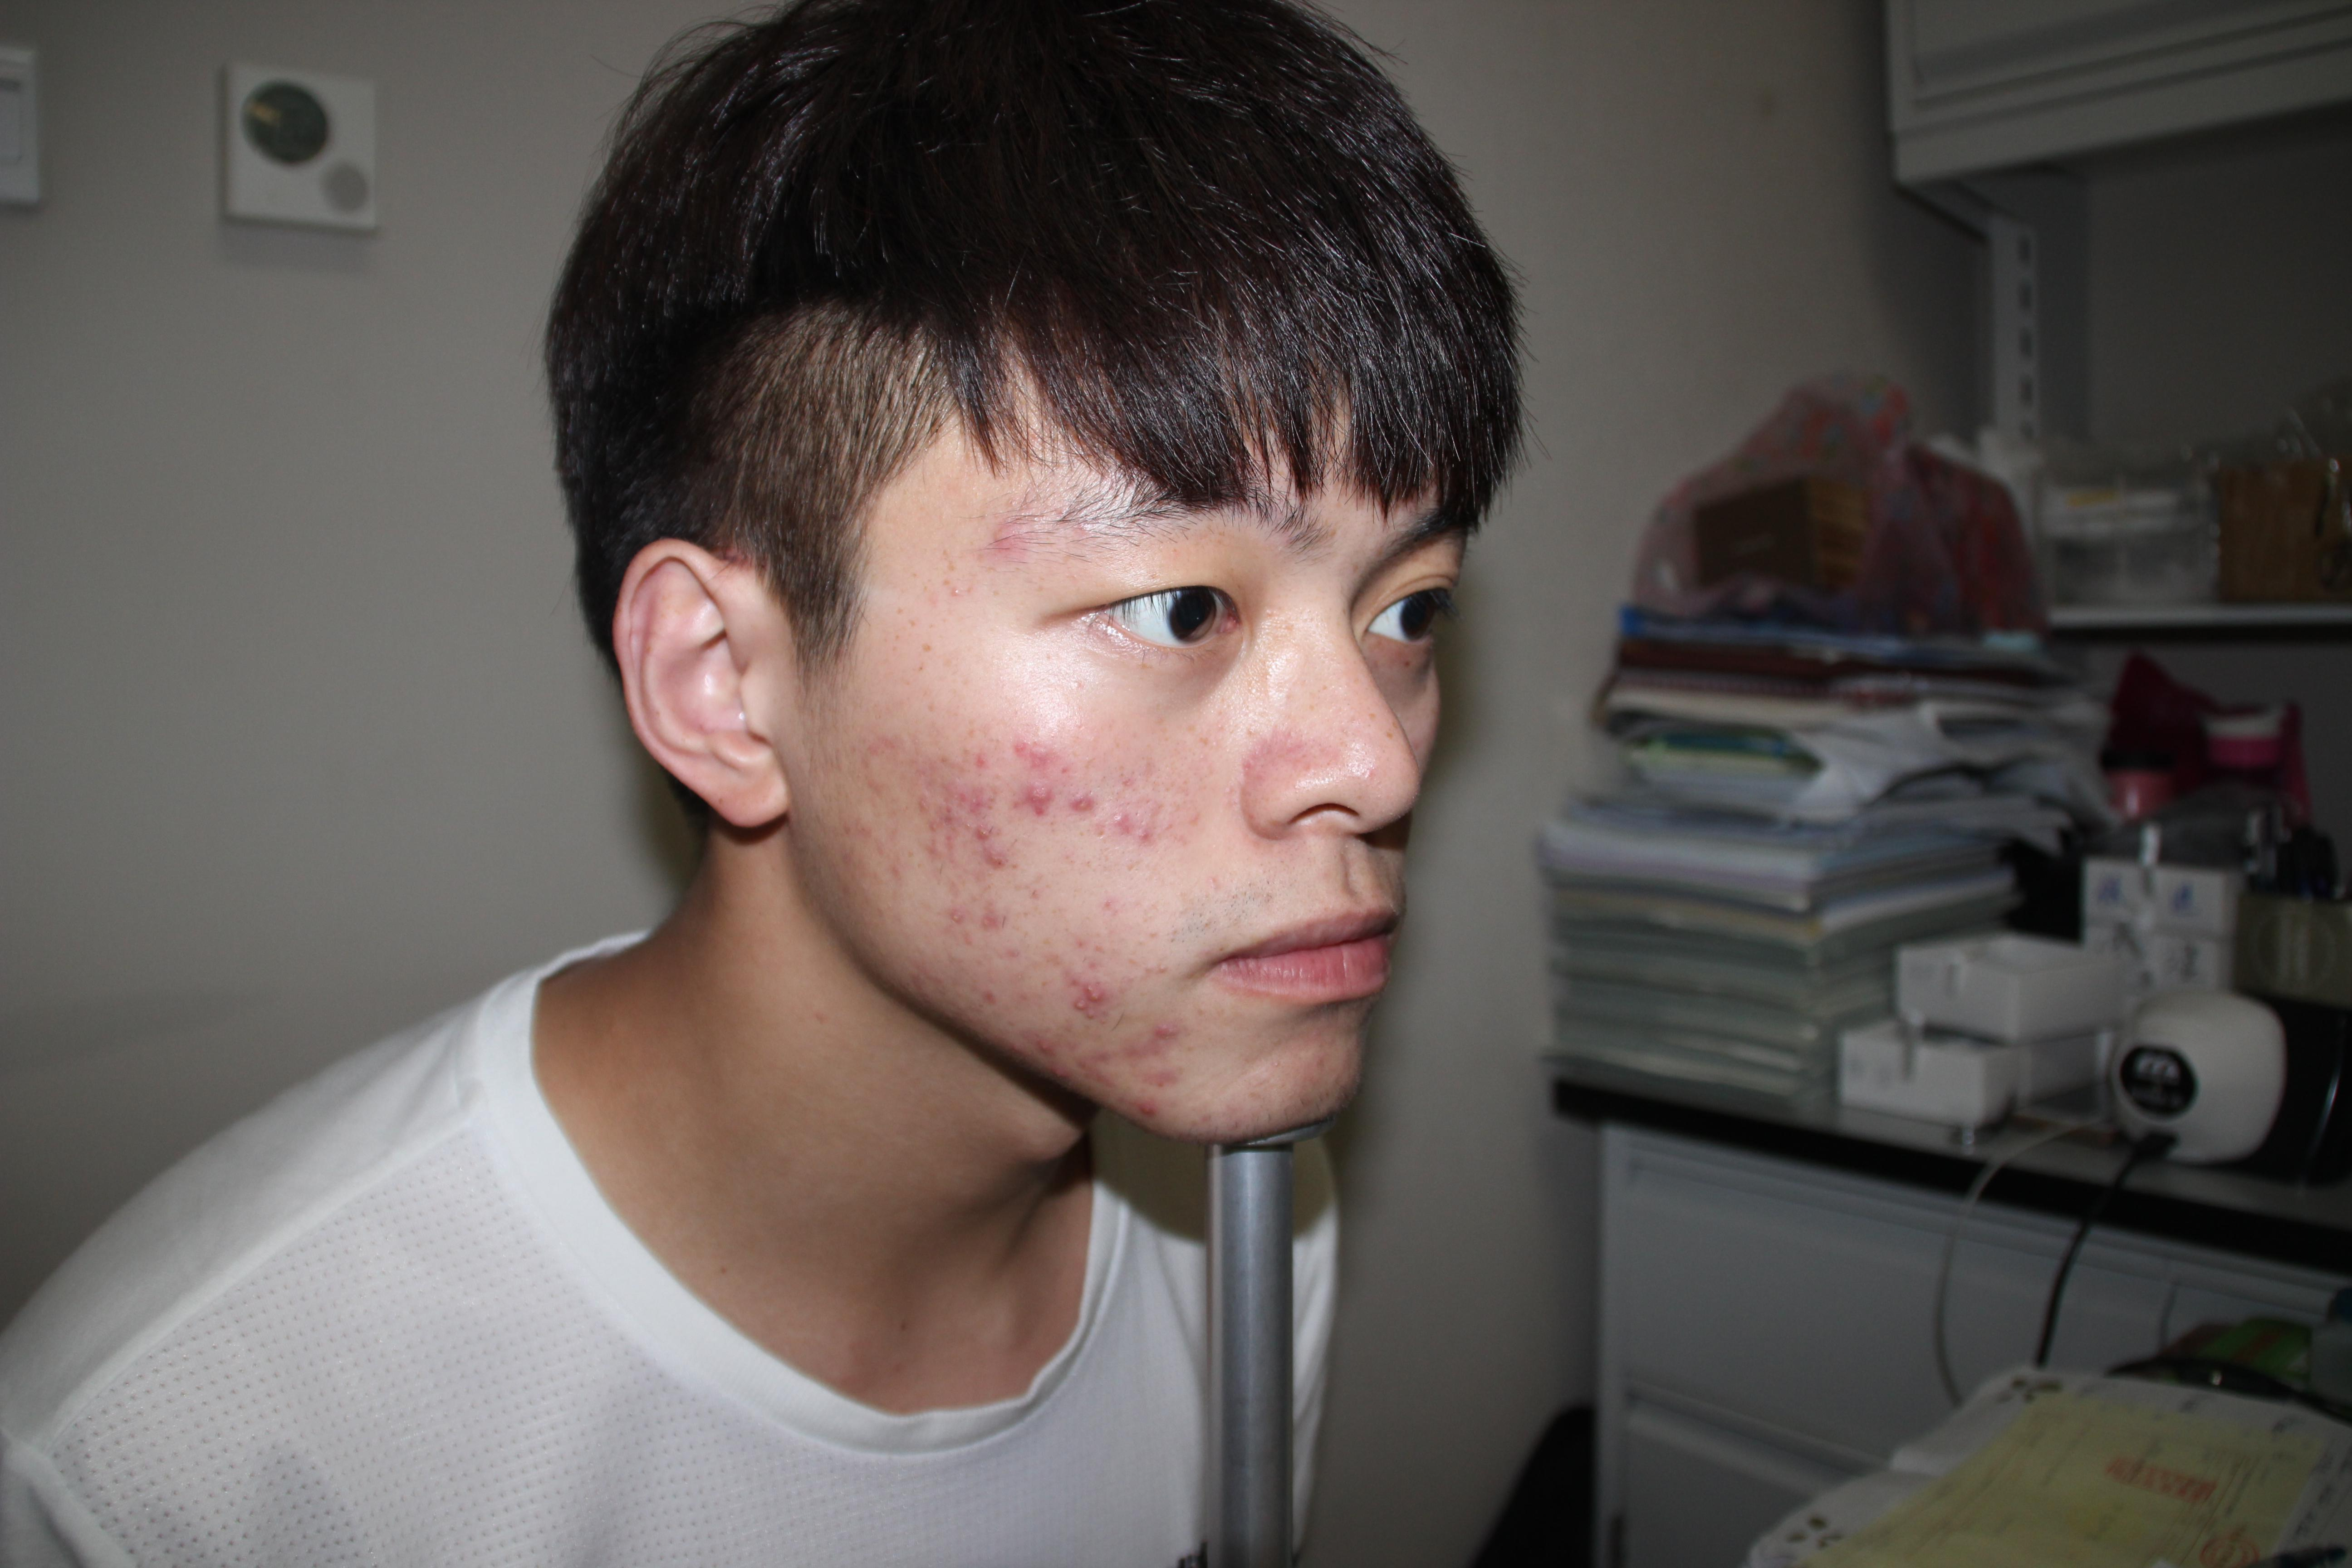fore: (985, 499, 1073, 577), (898, 768, 957, 821), (1109, 1040, 1169, 1092), (1010, 777, 1071, 826), (1006, 709, 1069, 756), (1097, 789, 1141, 856), (1138, 1012, 1200, 1052), (1138, 796, 1178, 856), (1073, 971, 1125, 1015), (950, 749, 997, 793), (982, 821, 1025, 865), (1038, 1053, 1081, 1097), (978, 884, 1025, 924), (1041, 945, 1094, 980), (910, 821, 950, 861), (1138, 1095, 1178, 1136), (1029, 1024, 1069, 1062), (954, 786, 997, 821), (973, 805, 1010, 843), (1060, 1040, 1106, 1068), (1066, 780, 1094, 824)
